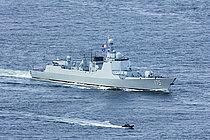MIL_Ship: (30, 37, 175, 92)
